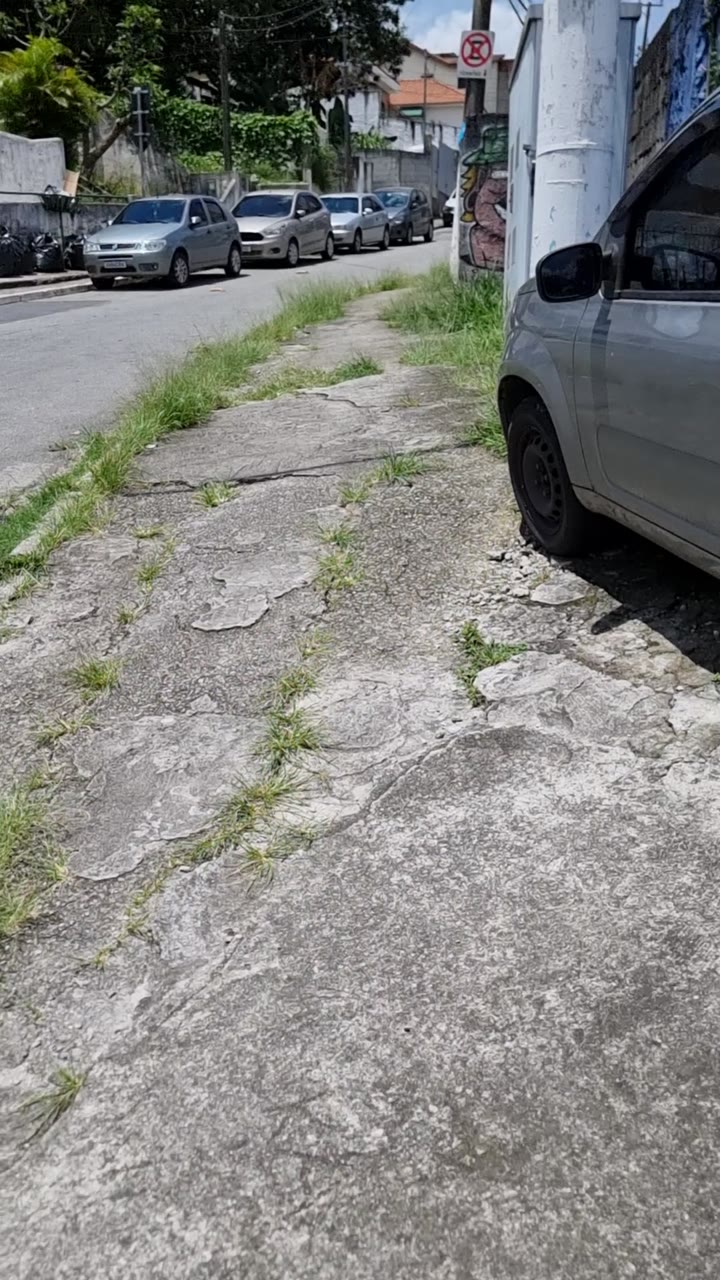desnivel: (324, 550, 684, 704)
obstaculo: (497, 256, 720, 589), (533, 0, 634, 384)
